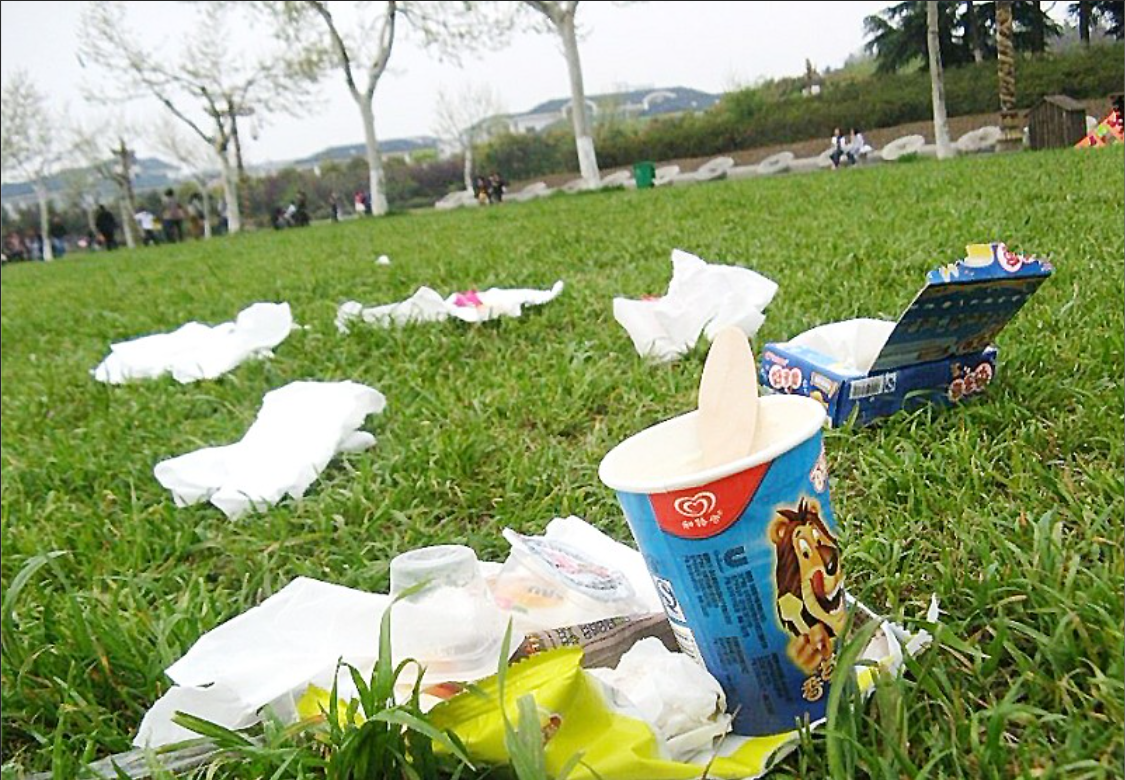garbage: (98, 520, 950, 780), (569, 329, 873, 743), (749, 243, 1052, 426), (127, 387, 395, 517), (610, 248, 781, 357), (88, 310, 294, 382), (329, 280, 580, 339)
